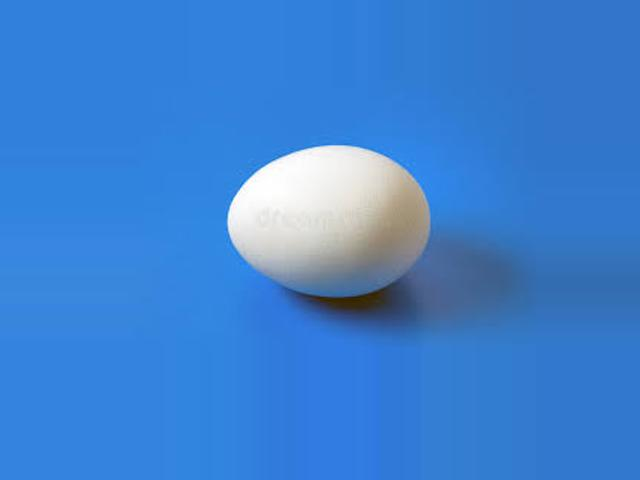egg: (225, 145, 432, 298)
